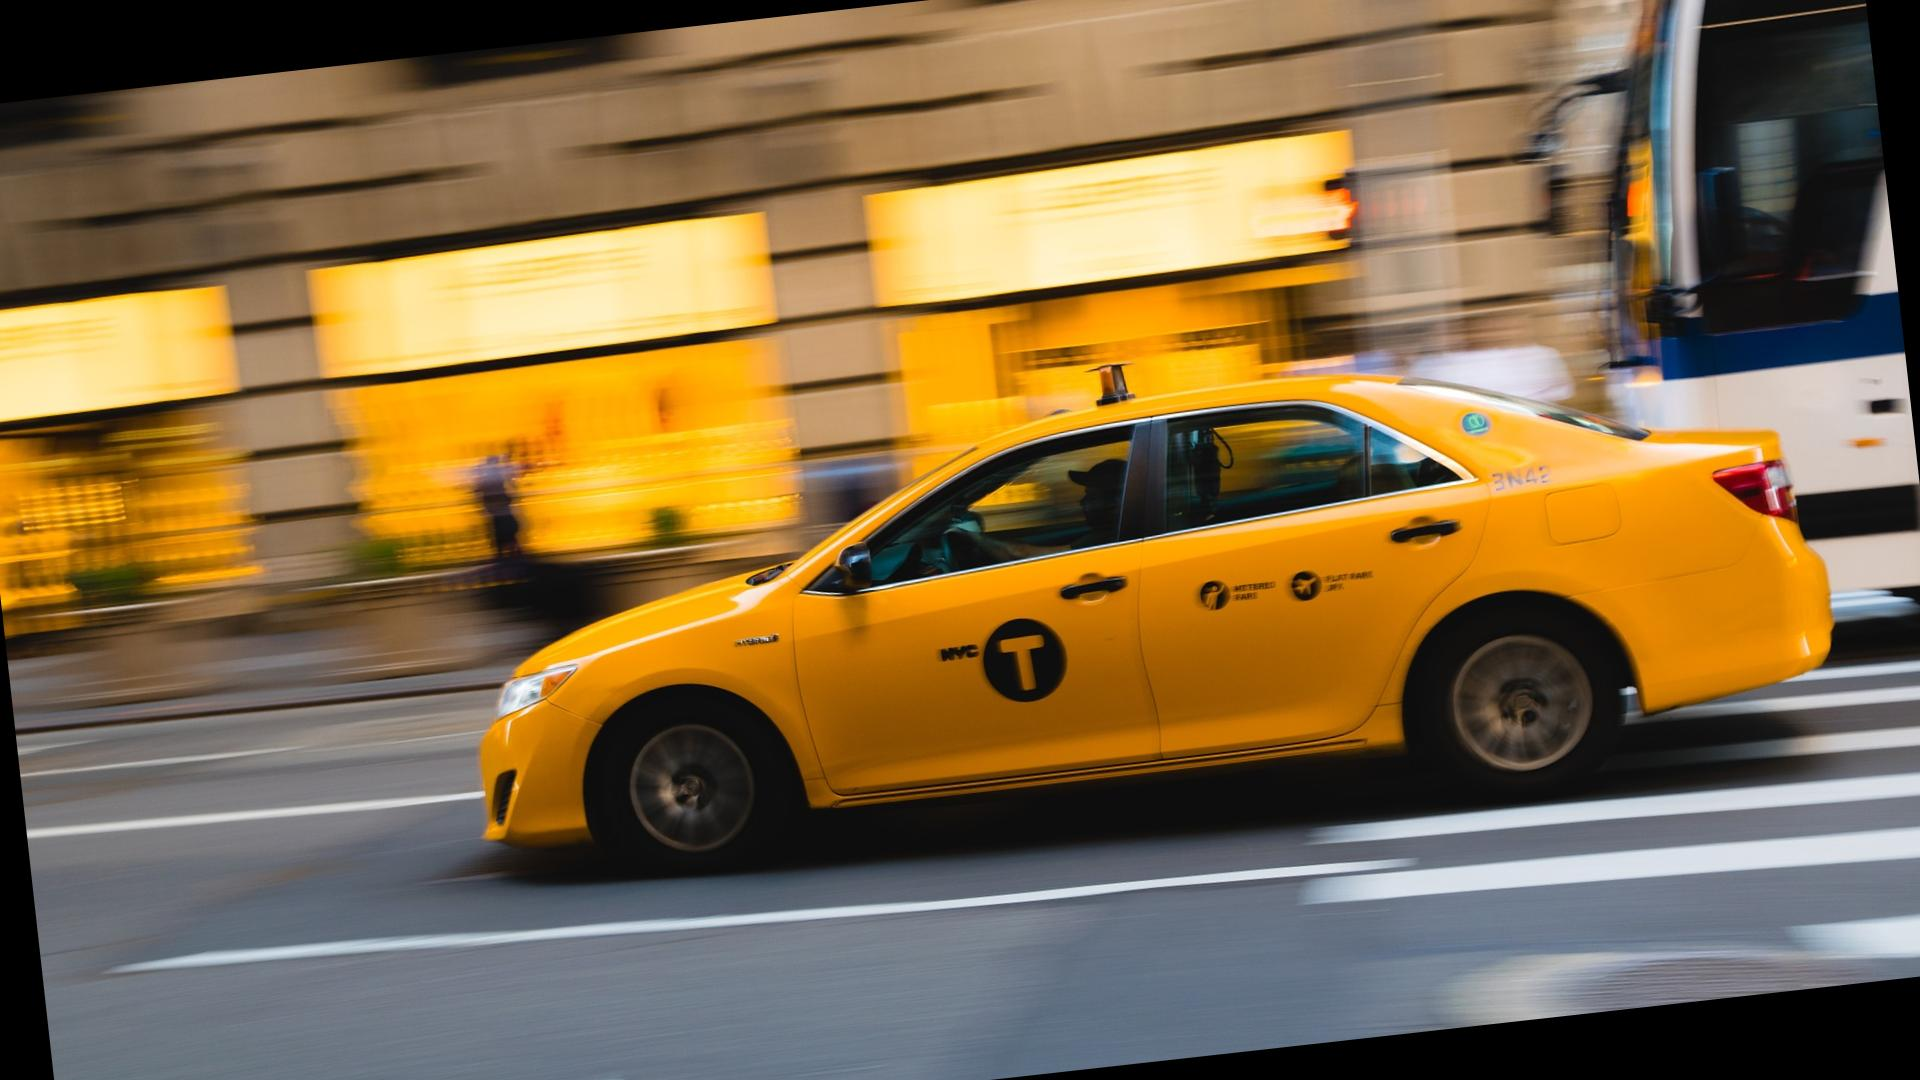taxi: (450, 376, 1829, 891)
